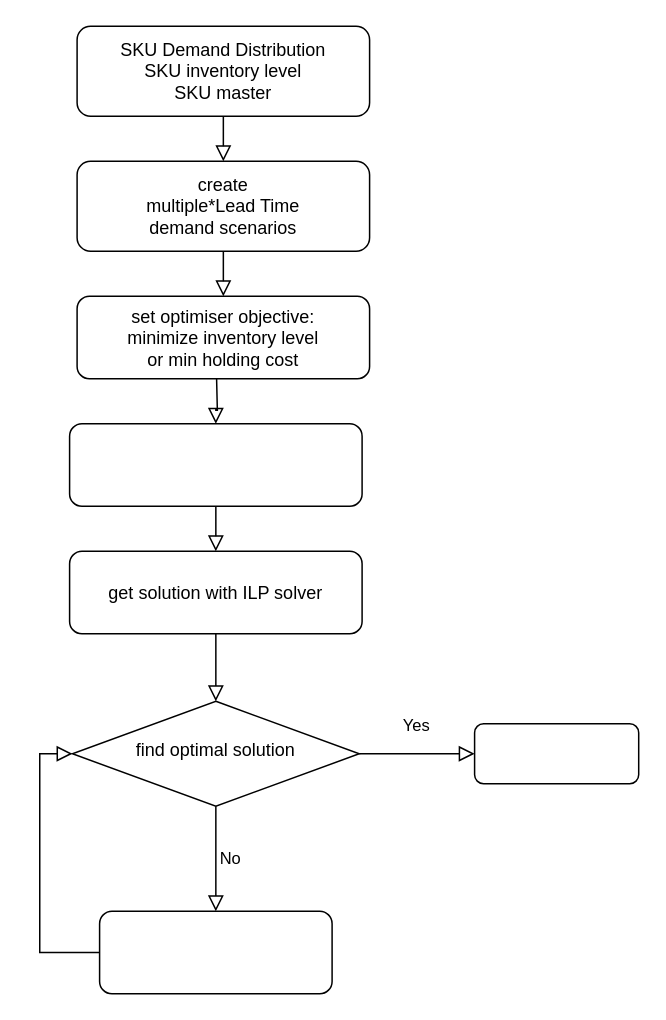
Some shapes in this 666 by 1020 pixel diagram are drawn without their labels. The shapes that lost their labels are listed below. From the top down, each one's centre as x and y in pixels, then its label:
[215,464]: set decision variable and constraints service level = 0.95
[556,753]: generate next replenishment plan
[215,952]: Find out reason and redo release constraint if necessay
